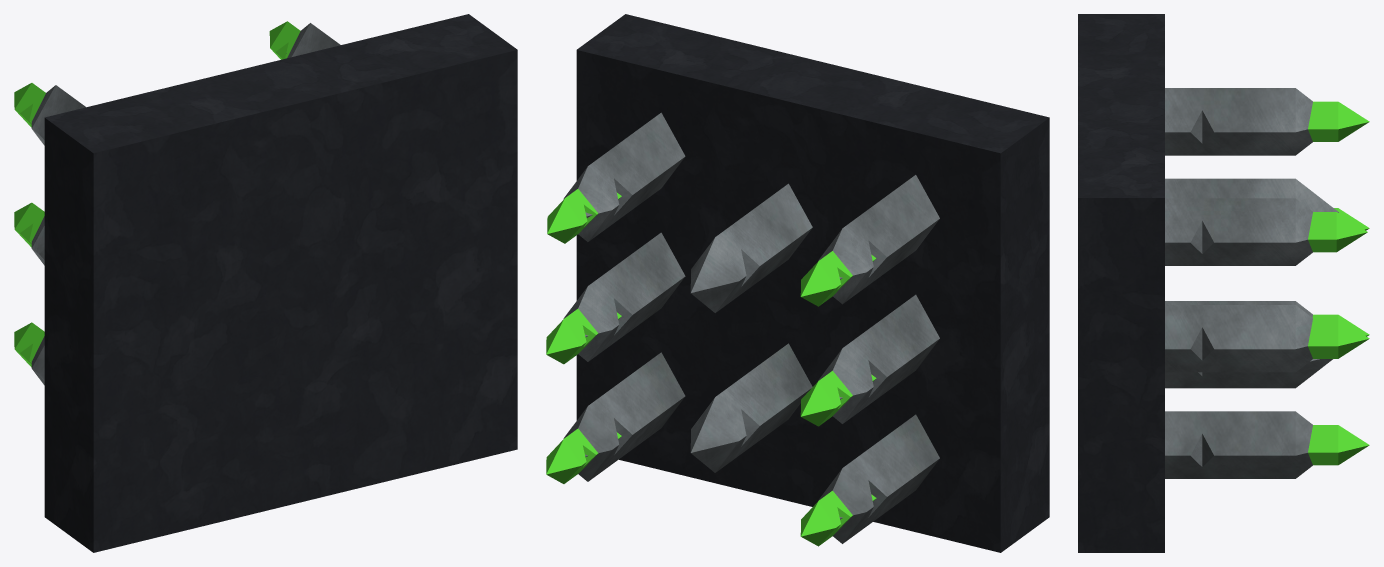
Rendered from poisonspike.glb.
3 views of the same model, side by side, from view 1: azimuth 30°, elevation 25°; view 2: azimuth 150°, elevation 25°; view 3: azimuth 270°, elevation 25° (orthographic). The views are drawn at different scales.
Visible parts, largest first — view 1: block, blade_broken (×6); view 2: block, blade_broken (×14); view 3: blade_broken (×11), block.
Boxes of the visible parts, x1=… form: block: x1=44, y1=14, x2=517, y2=552; blade_broken (×6): x1=14, y1=21, x2=340, y2=367; block: x1=576, y1=14, x2=1049, y2=552; blade_broken (×14): x1=546, y1=112, x2=939, y2=546; blade_broken (×11): x1=1165, y1=88, x2=1369, y2=478; block: x1=1078, y1=14, x2=1164, y2=552.
Bounding box in the file's own units: 1 × 0.9 × 0.6704.
15 materials, 9 textured.
